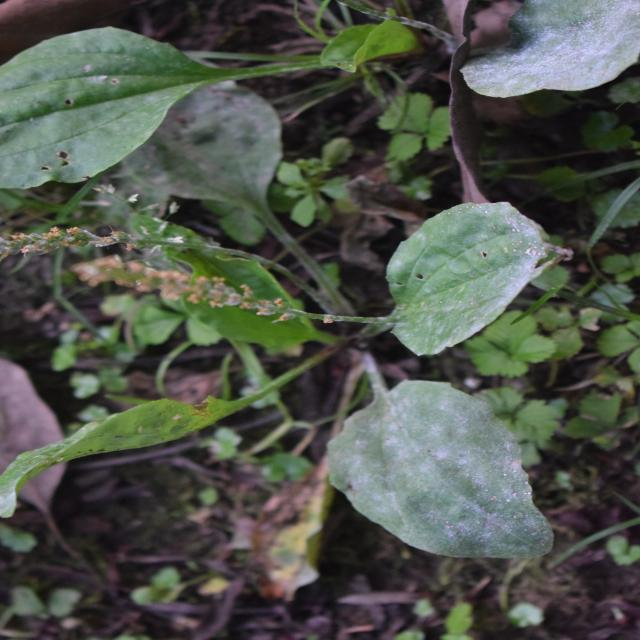plantain: (73, 67, 460, 520)
